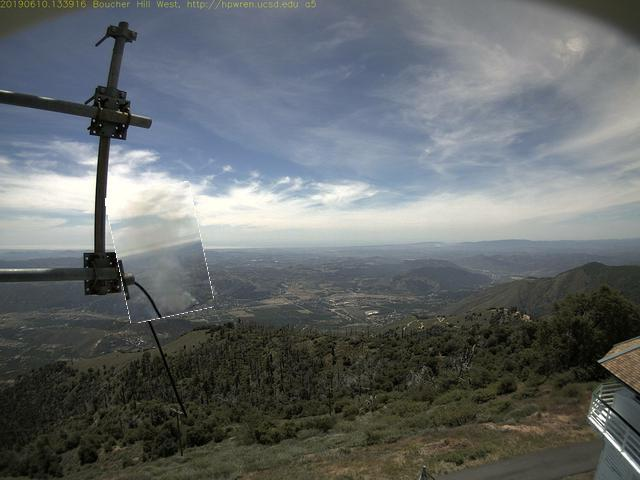smoke: (112, 186, 210, 322)
